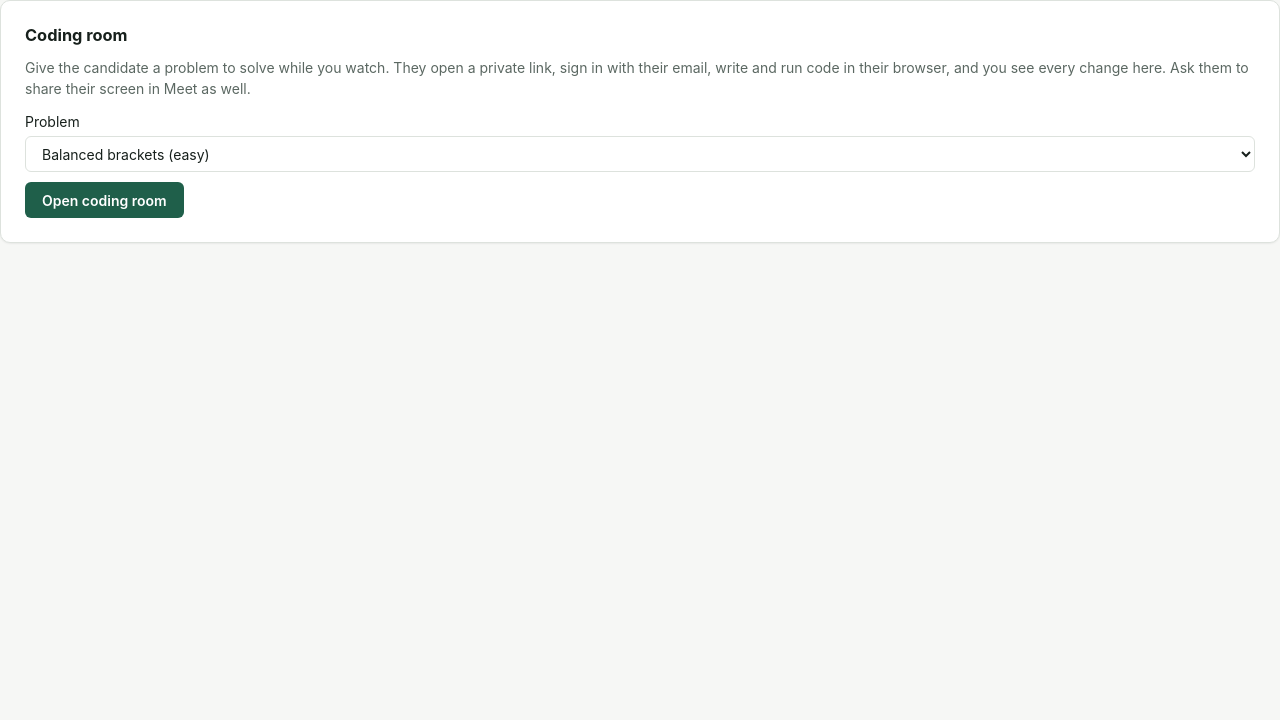
CodingRoomPanel (INT-36, INT-38) › opens a room with a kit problem, then shows the link and the candidate’s code
Step 1. Select "Two sum (easy)" in the dropdown labelled "Problem" → [640, 154], box x1=25 y1=136 x2=1255 y2=172
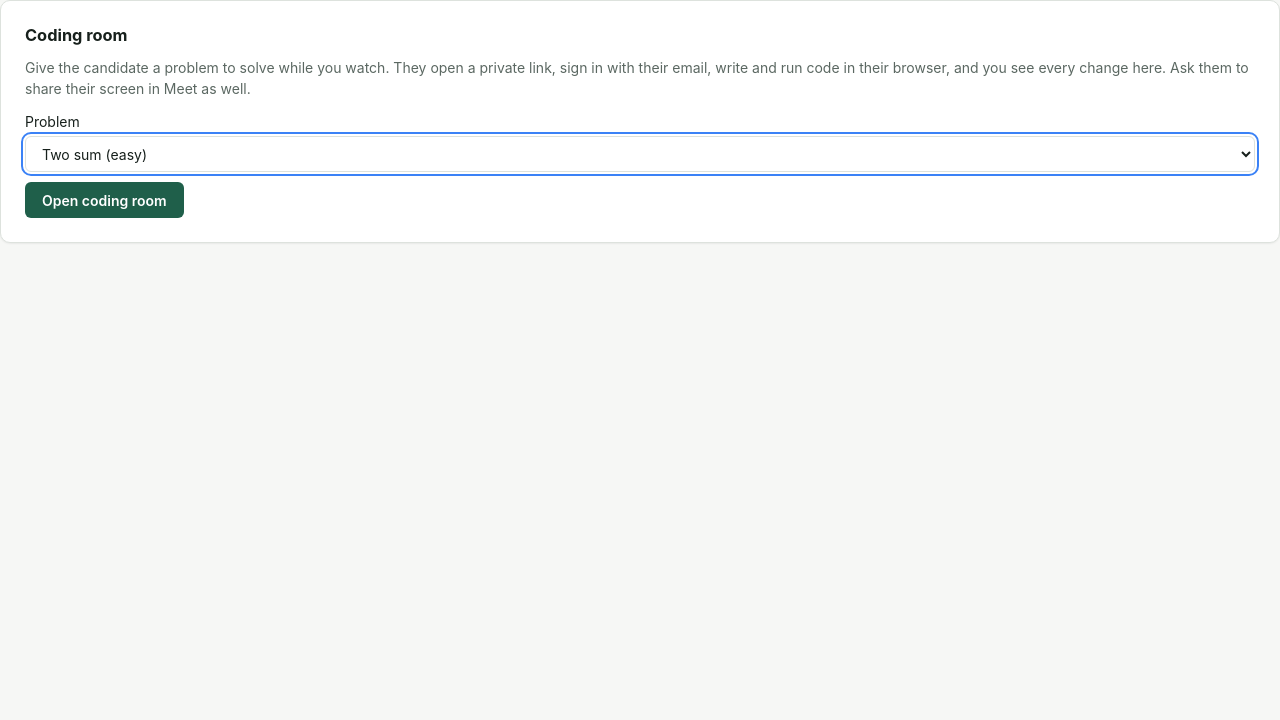
Step 2. Click the button "Open coding room" → [104, 200], box x1=25 y1=182 x2=184 y2=218
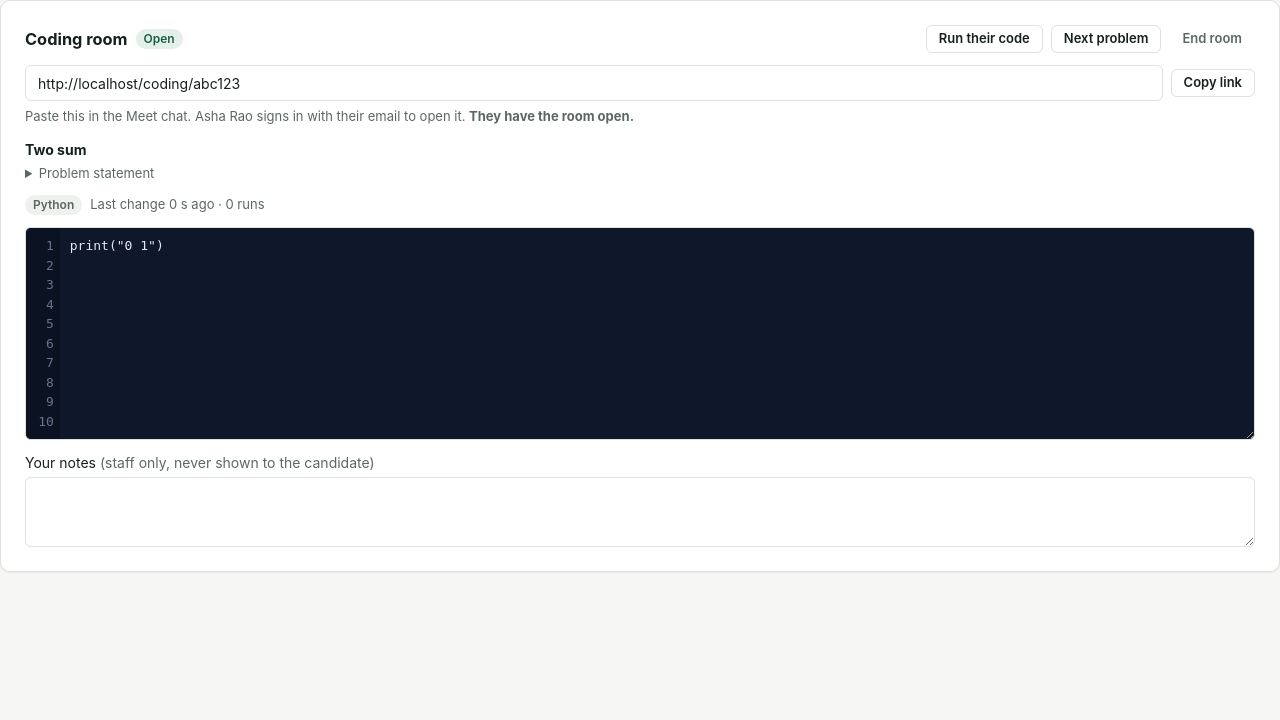
Now the text "They have the room open." is shown, box x1=469 y1=108 x2=634 y2=124
Now the text box named "Candidate's code" holds "print(\"0 1\")", box x1=60 y1=228 x2=1254 y2=439
